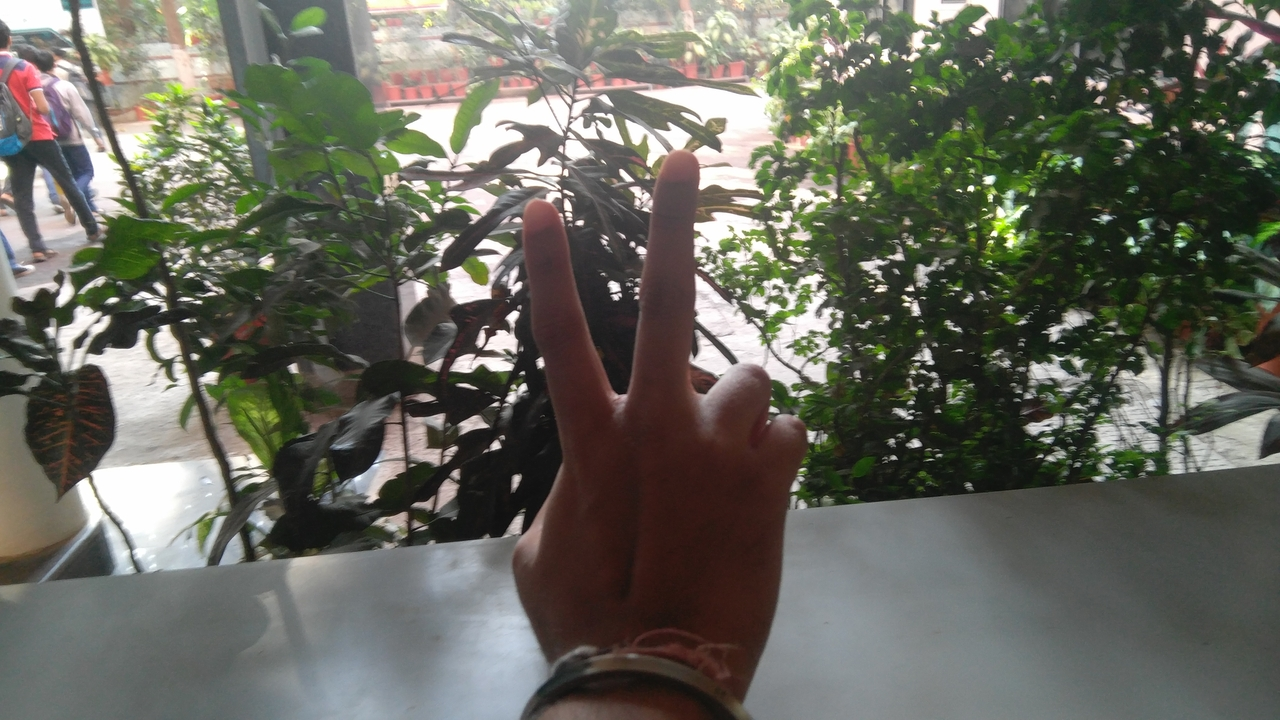fingertip: (512, 190, 564, 246), (654, 140, 706, 194)
